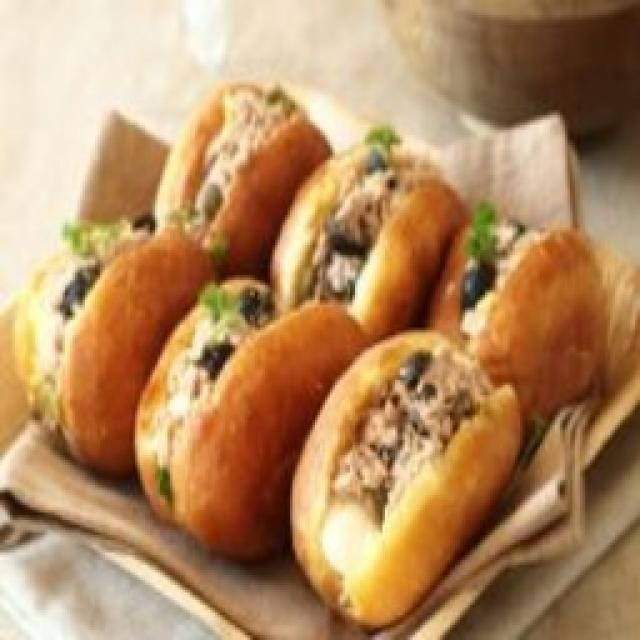Frecasse: (18, 84, 640, 628)
